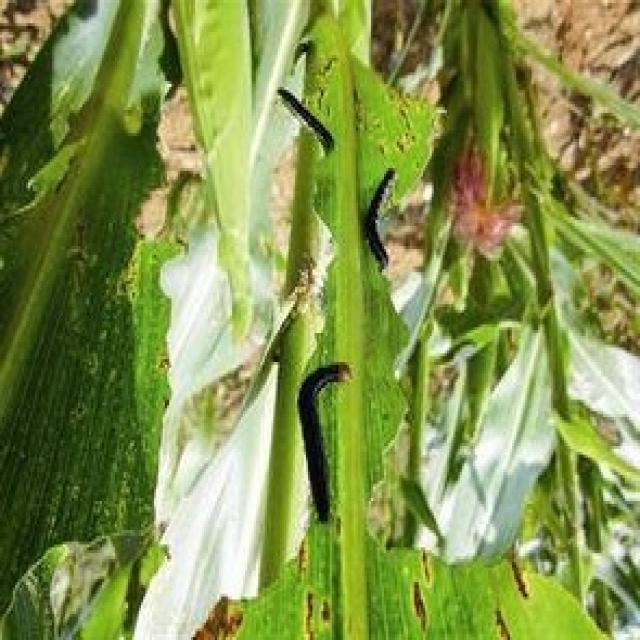army worm: (292, 359, 352, 530), (277, 85, 337, 160), (365, 166, 396, 276)
